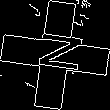N_W: (27, 31, 83, 79)
